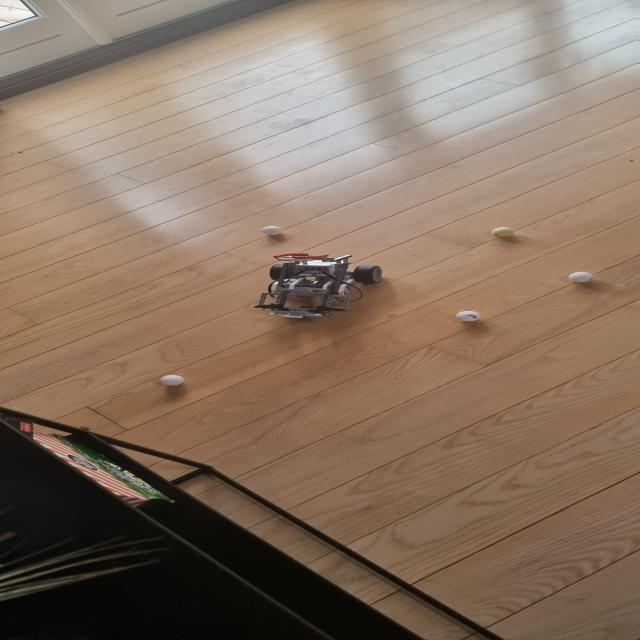robot: (252, 253, 383, 319)
white-golf-balls: (160, 375, 184, 386), (456, 311, 480, 322), (492, 227, 514, 238), (569, 272, 593, 282), (262, 225, 281, 235)
